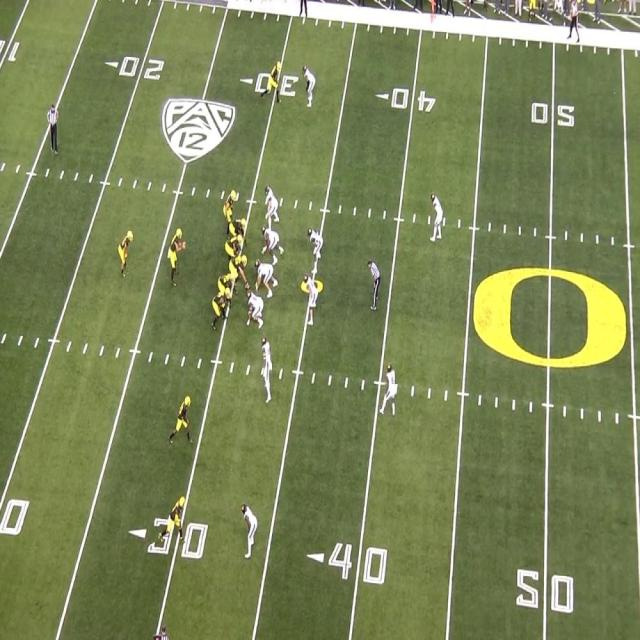center: (228, 254, 250, 284)
db: (242, 504, 259, 557), (384, 363, 398, 418), (430, 193, 442, 239), (304, 65, 316, 107)
lb: (302, 276, 318, 326), (308, 228, 324, 269), (263, 336, 272, 403), (263, 184, 277, 226)
qb: (170, 229, 183, 283)
